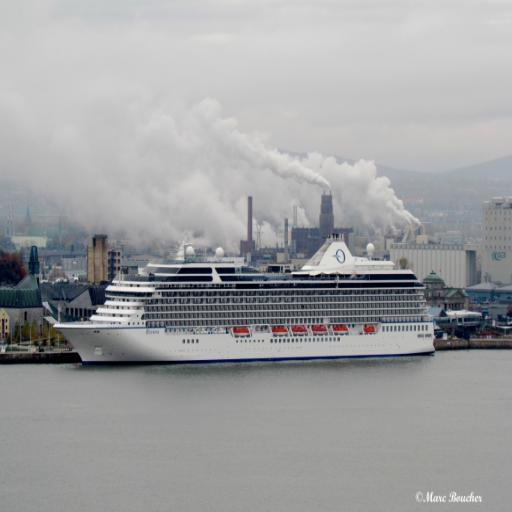cruises: (49, 231, 438, 372)
